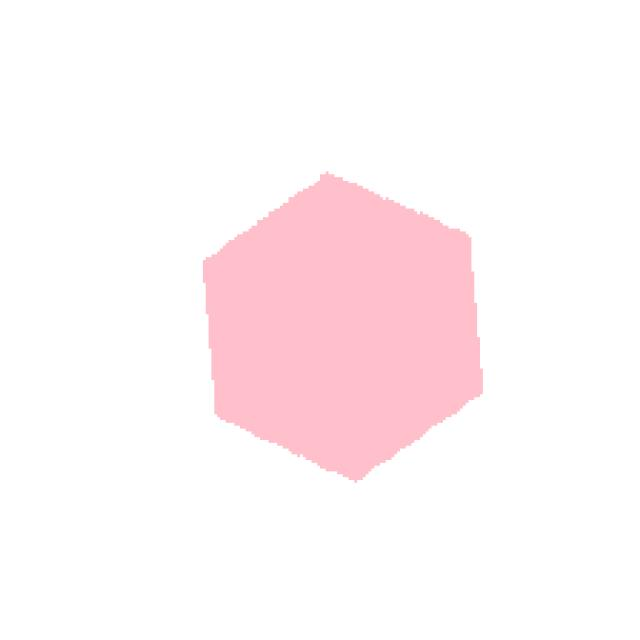Hexagon: (172, 153, 562, 487)
